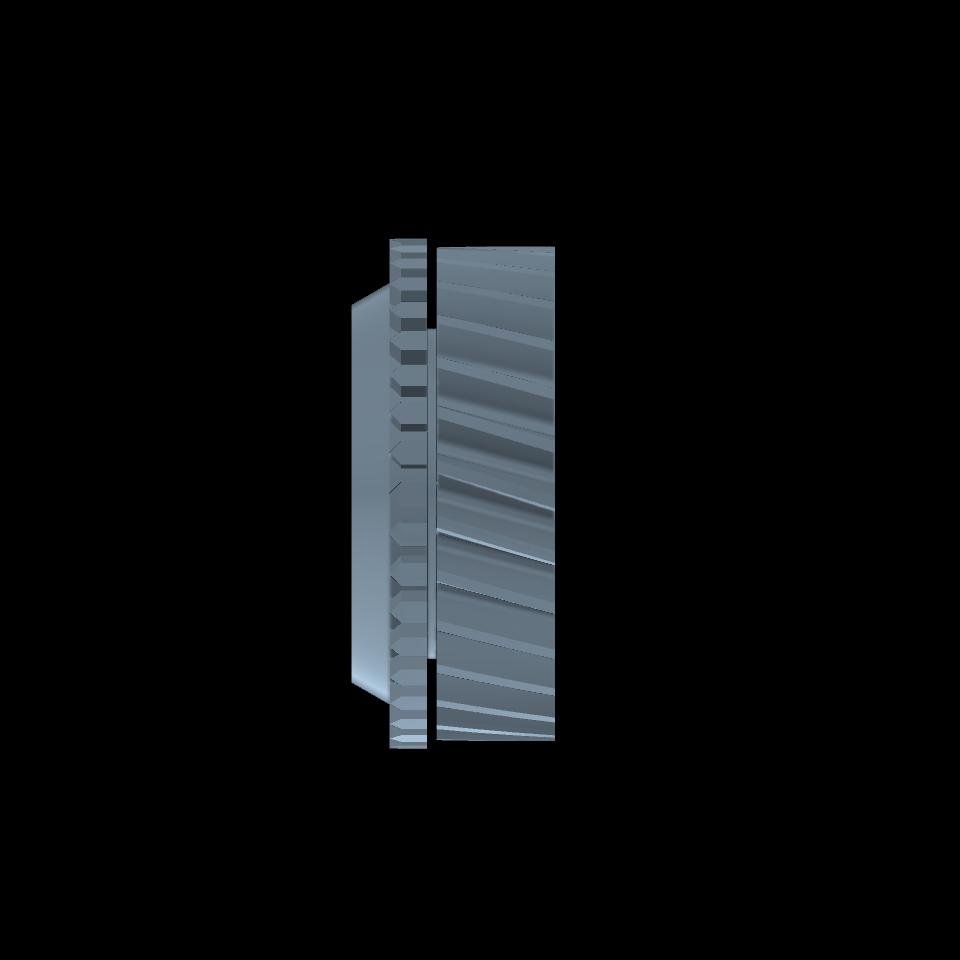Straight: (437, 246, 556, 740), (401, 239, 428, 749)
